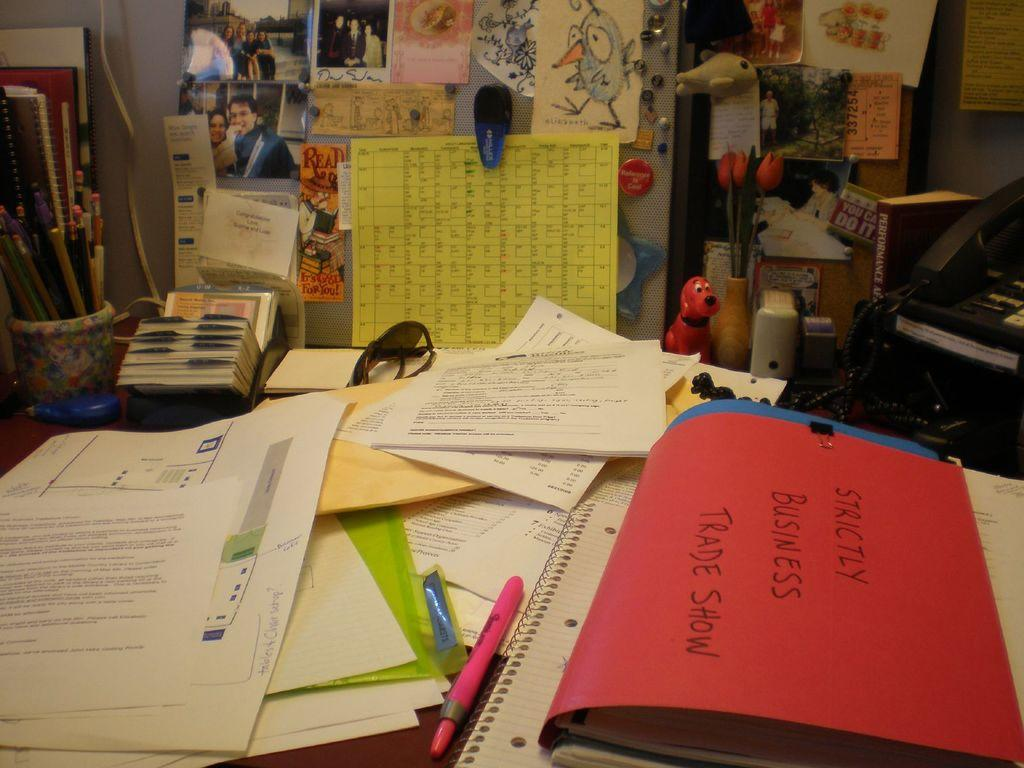book: (80, 284, 290, 410)
